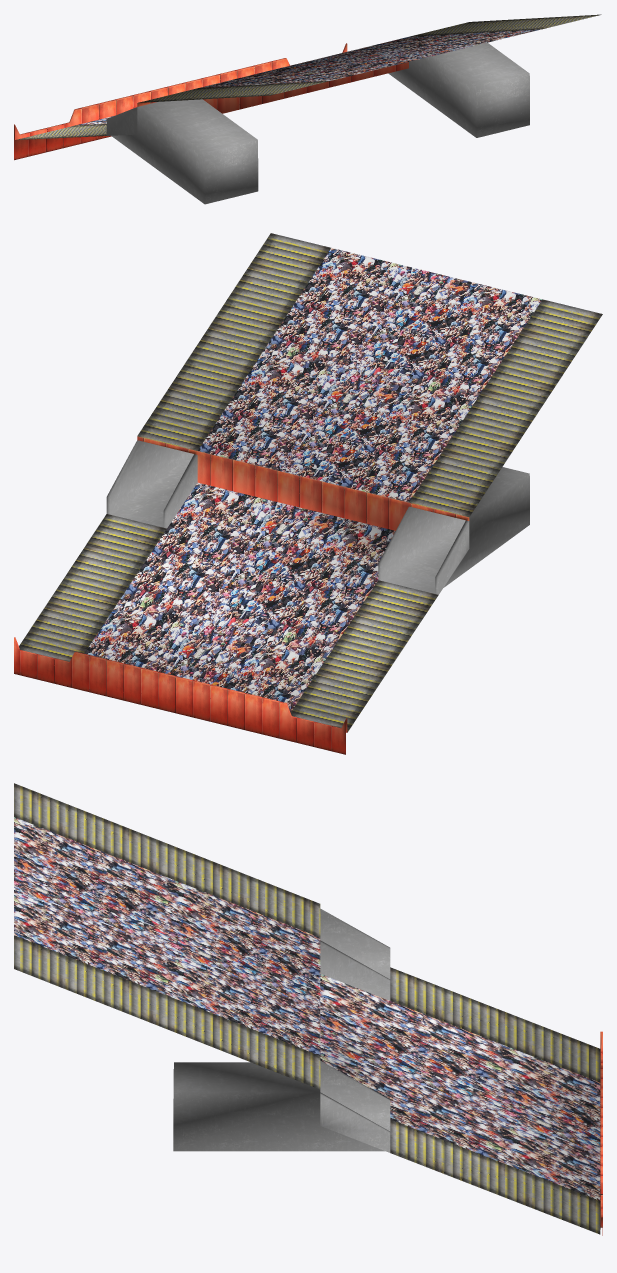
The model's file is tribune_single.fbx.
3 views of the same model, one above another, from view 1: azimuth 30°, elevation 25°; view 2: azimuth 150°, elevation 25°; view 3: azimuth 270°, elevation 25° (orthographic). The views are drawn at different scales.
Parts seen in each view (by area): view 1: Cube_003; view 2: Cube_003; view 3: Cube_003.
Boxes of the visible parts, left/top/right/bottom form: Cube_003: left=14, top=14, right=601, bottom=204; Cube_003: left=14, top=233, right=602, bottom=754; Cube_003: left=14, top=783, right=602, bottom=1235.
Size of the model in its own units: 33 by 24 by 44.2.
